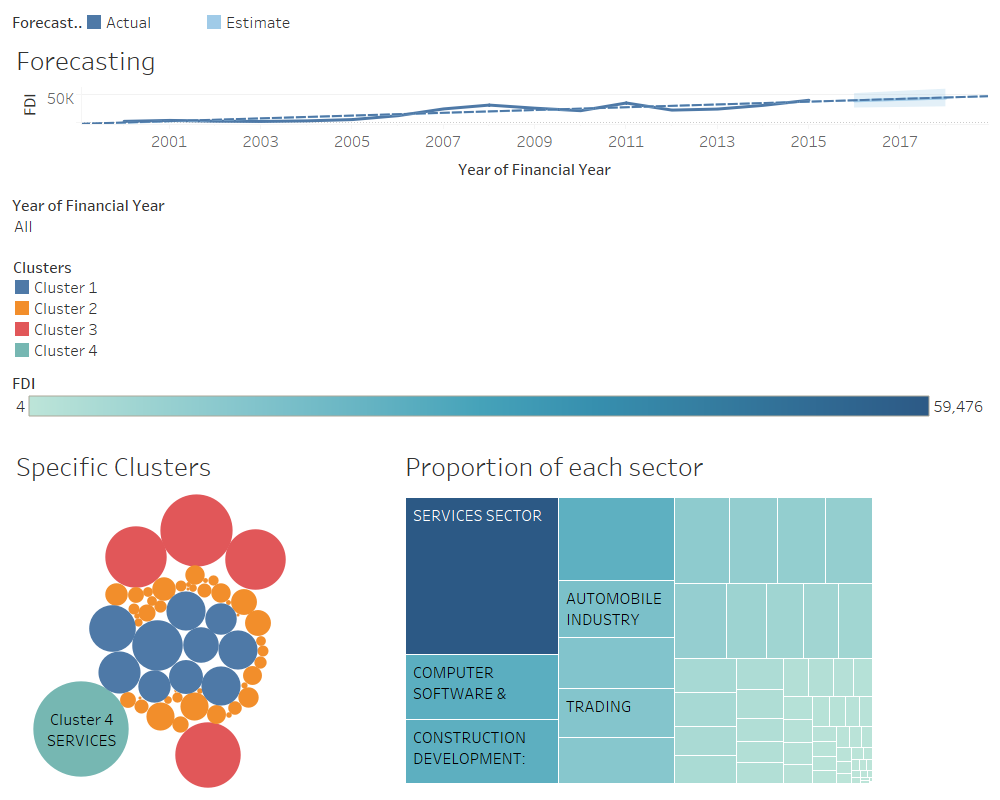

What the dashboard file says about the page in this screenshot:
{"tool":"tableau","page":{"name":"Dashboard 2","canvas":[1000,800],"ordinal":1},"visuals":[{"type":"worksheet","box":[0,0,1000,800]},{"type":"worksheet","param":"vert","box":[8,8,984,431]},{"type":"worksheet","title":"Forecasting","mark":"Automatic","rows":["Pivot Field Values"],"cols":["Calculation_1668583671280828416"],"param":"[federated.0at6pdx1hvt9tr10o7rg70qygbjm].[none:Forecast Indicator:nk]","box":[8,8,984,25]},{"type":"worksheet","title":"Forecasting","mark":"Automatic","rows":["Pivot Field Values"],"cols":["Calculation_1668583671280828416"],"box":[8,33,984,158]},{"type":"worksheet","title":"Proportion of each sector","mark":"Automatic","param":"[federated.0at6pdx1hvt9tr10o7rg70qygbjm].[yr:Calculation_1668583671280828416:ok]","box":[8,191,984,61]},{"type":"worksheet","title":"Specific Clusters","mark":"Circle","param":"[federated.0at6pdx1hvt9tr10o7rg70qygbjm].[none:AdhocCluster:1:ok]","box":[8,252,984,114]},{"type":"worksheet","title":"Proportion of each sector","mark":"Automatic","param":"[federated.0at6pdx1hvt9tr10o7rg70qygbjm].[sum:Pivot Field Values:qk]","box":[8,366,984,73]},{"type":"worksheet","param":"horz","box":[8,439,984,353]},{"type":"worksheet","title":"Specific Clusters","mark":"Circle","box":[8,439,389,353]},{"type":"worksheet","title":"Proportion of each sector","mark":"Automatic","box":[397,439,509,353]}]}

Visuals, with their boxes in screenshot pixels (x1, y1, x2, y2), scaled from the page's 1000x800 canvas onto the 1000x800 screenshot:
worksheet: 0/0/999/799
worksheet: 8/8/992/439
"Forecasting" worksheet: 8/8/992/33
"Forecasting" worksheet: 8/33/992/191
"Proportion of each sector" worksheet: 8/191/992/252
"Specific Clusters" worksheet (Circle marks): 8/252/992/366
"Proportion of each sector" worksheet: 8/366/992/439
worksheet: 8/439/992/792
"Specific Clusters" worksheet (Circle marks): 8/439/397/792
"Proportion of each sector" worksheet: 397/439/906/792
